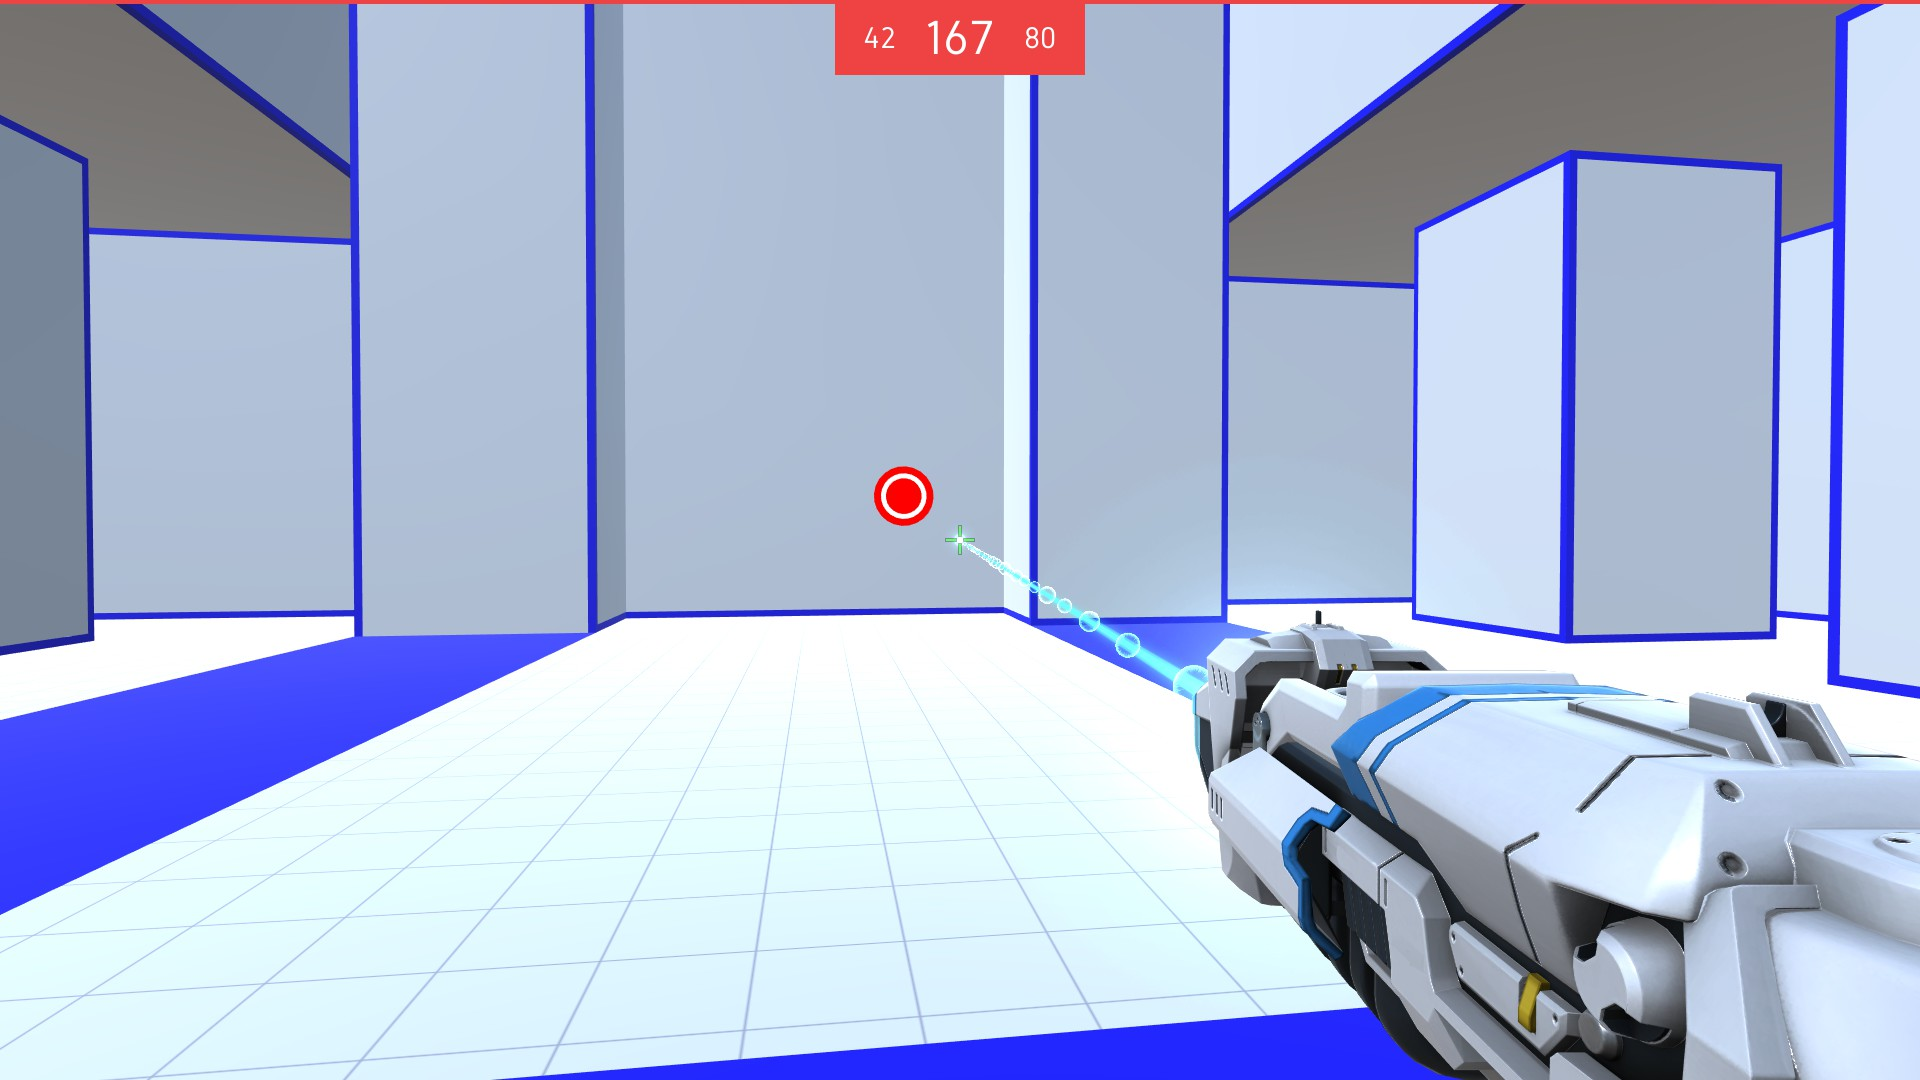target: (869, 465, 945, 527)
